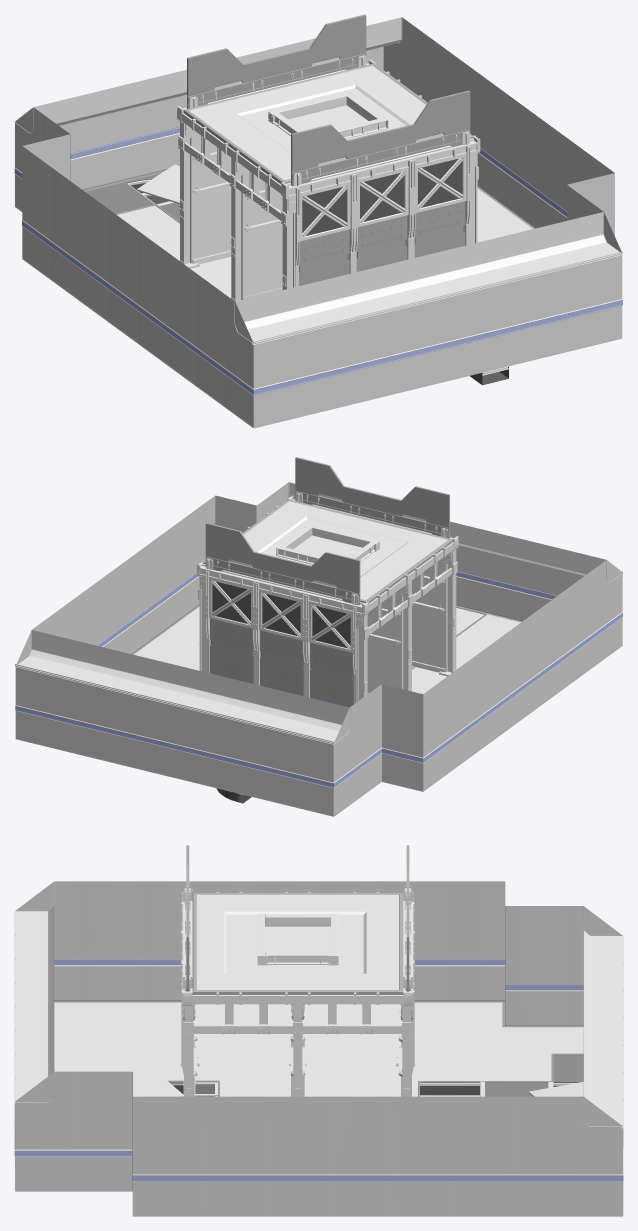
The picture shows the model from 3 angles, top to bottom: view 1: azimuth 30°, elevation 25°; view 2: azimuth 150°, elevation 25°; view 3: azimuth 270°, elevation 25°; orthographic projection. The views are drawn at different scales.
Visible parts, largest first — view 1: SM_H_Building_FutureTech_HBlue_01_InterWall_12D; view 2: SM_H_Building_FutureTech_HBlue_01_InterWall_12D; view 3: SM_H_Building_FutureTech_HBlue_01_InterWall_12D.
Boxes of the visible parts, x1,y1,x2,y2 form: SM_H_Building_FutureTech_HBlue_01_InterWall_12D: [14, 14, 623, 428]; SM_H_Building_FutureTech_HBlue_01_InterWall_12D: [14, 457, 623, 816]; SM_H_Building_FutureTech_HBlue_01_InterWall_12D: [14, 845, 623, 1216].
Bounding box in the file's own units: 717 × 602 × 301.
